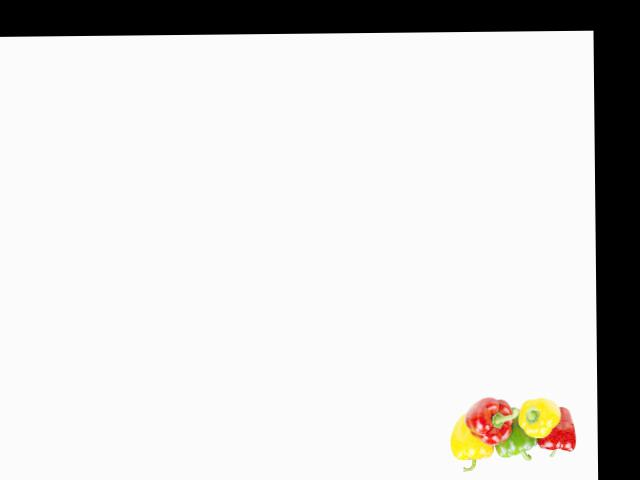bell_pepper: (537, 413, 579, 458)
